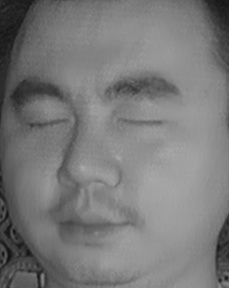blink: (116, 105, 168, 139), (23, 106, 71, 138)
mouth: (50, 192, 141, 250)
